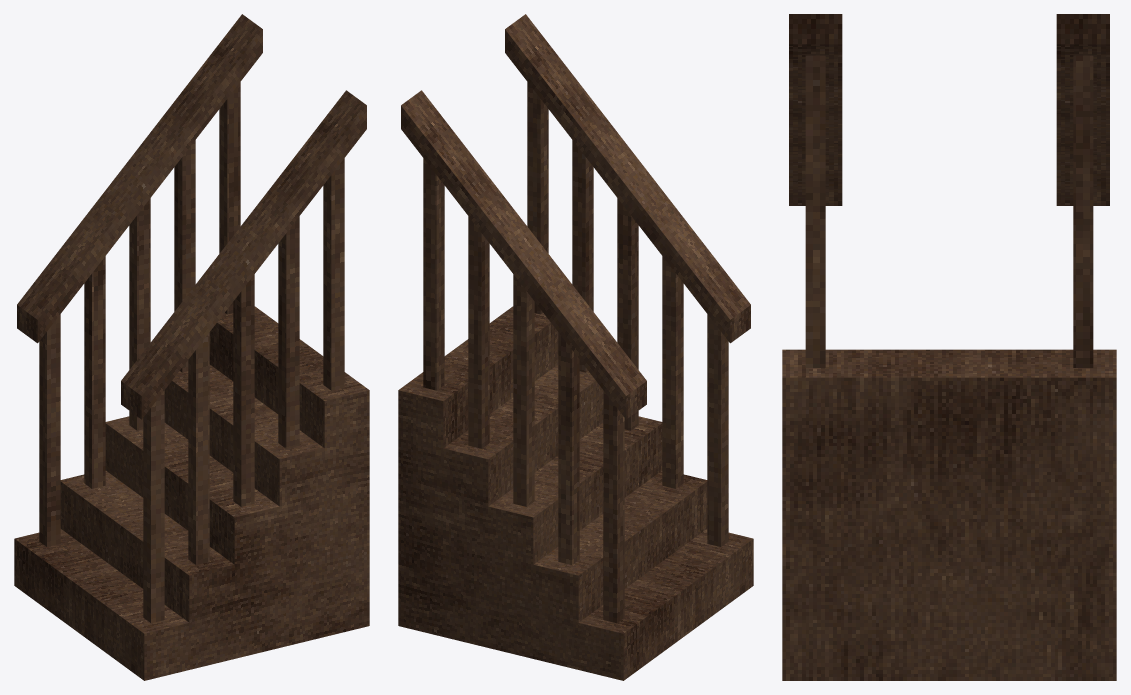
Rendered from stair_small_02.glb.
3 renders of one model, left to right at view 1: azimuth 30°, elevation 25°; view 2: azimuth 150°, elevation 25°; view 3: azimuth 270°, elevation 25°, orthographic. The views are drawn at different scales.
Parts seen in each view (by area): view 1: stair_small_022, railing_stair_01_R_001, railing_stair_01_L_001; view 2: stair_small_022, railing_stair_01_L_001, railing_stair_01_R_001; view 3: stair_small_022, railing_stair_01_L_001, railing_stair_01_R_001.
Part boxes in pixels (x1,y1,x2,y2): stair_small_022: [14, 306, 369, 680]; railing_stair_01_R_001: [121, 90, 366, 623]; railing_stair_01_L_001: [17, 14, 262, 546]; stair_small_022: [398, 306, 753, 680]; railing_stair_01_L_001: [401, 90, 646, 623]; railing_stair_01_R_001: [505, 14, 750, 546]; stair_small_022: [782, 349, 1116, 680]; railing_stair_01_L_001: [1056, 14, 1109, 367]; railing_stair_01_R_001: [789, 14, 842, 367].
Bounding box in the file's own units: 1 × 2.2 × 1.
Materials: 3 (3 with a texture image).
